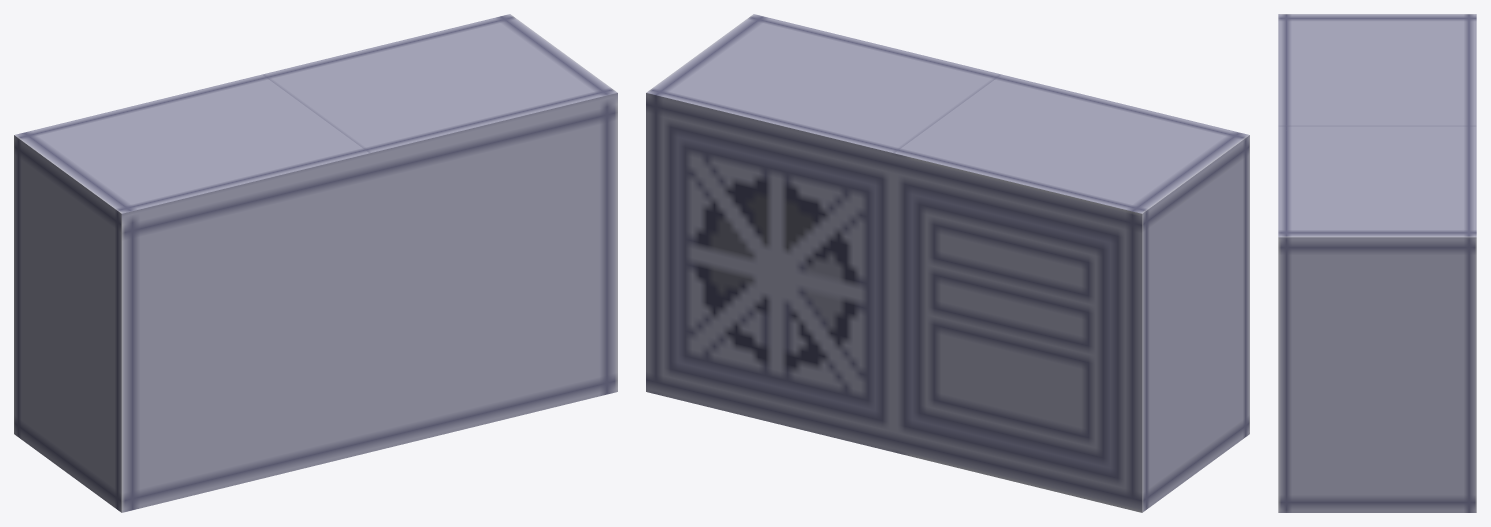
The model's file is Air Conditioner.fbx.
The picture shows the model from 3 angles, left to right: view 1: azimuth 30°, elevation 25°; view 2: azimuth 150°, elevation 25°; view 3: azimuth 270°, elevation 25°; orthographic projection. The views are drawn at different scales.
Parts seen in each view (by area): view 1: Air Conditioner; view 2: Air Conditioner; view 3: Air Conditioner.
Part boxes in pixels (x1,y1,x2,y2): Air Conditioner: (14, 14, 617, 512); Air Conditioner: (646, 14, 1249, 512); Air Conditioner: (1278, 14, 1476, 512).
Size of the model in its own units: 174 by 100 by 65.26.
1 material, 1 textured.
